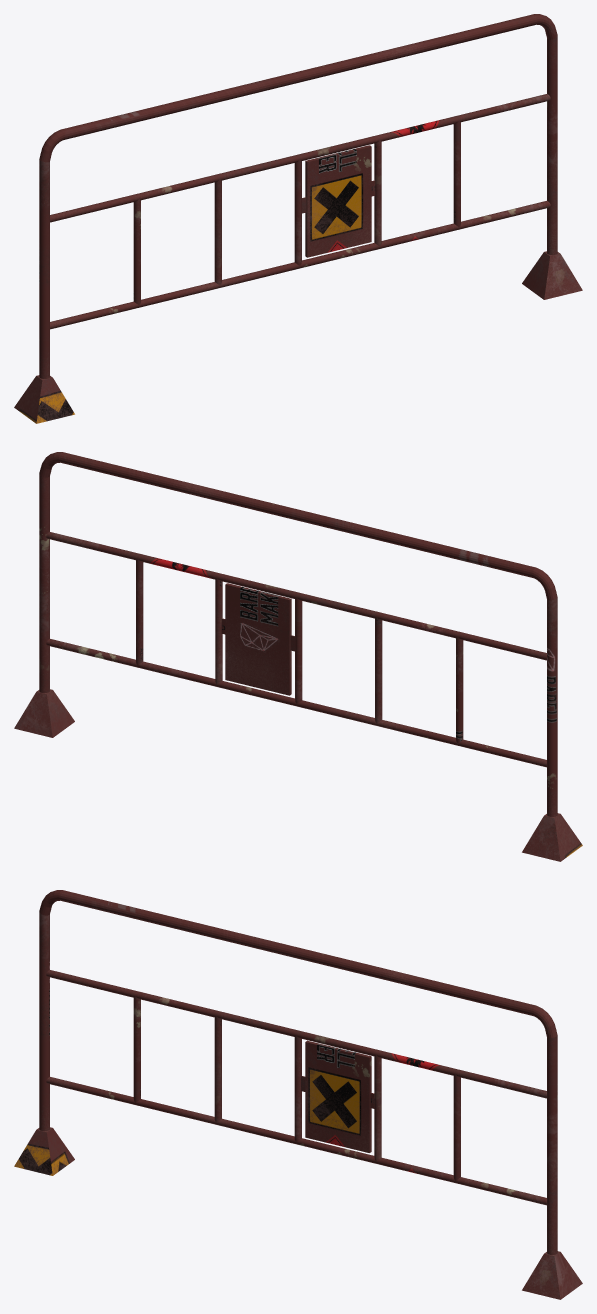
File: CS_cordon.FBX
The picture shows the model from 3 angles, top to bottom: view 1: azimuth 30°, elevation 25°; view 2: azimuth 150°, elevation 25°; view 3: azimuth 330°, elevation 25°; orthographic projection.
Parts seen in each view (by area): view 1: SM_cordon; view 2: SM_cordon; view 3: SM_cordon.
Part boxes in pixels (x1,y1,x2,y2): SM_cordon: (14,14,582,423); SM_cordon: (14,452,582,861); SM_cordon: (14,890,582,1299).
Size of the model in its own units: 344 by 24.42 by 166.
